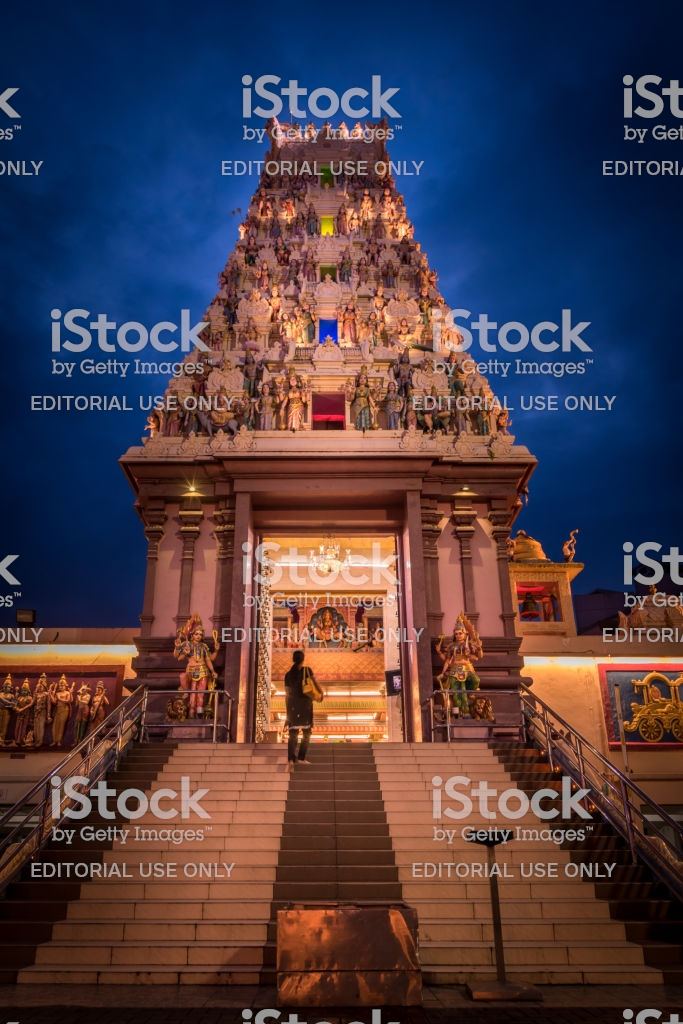Hindu Temple: (113, 101, 560, 705)
